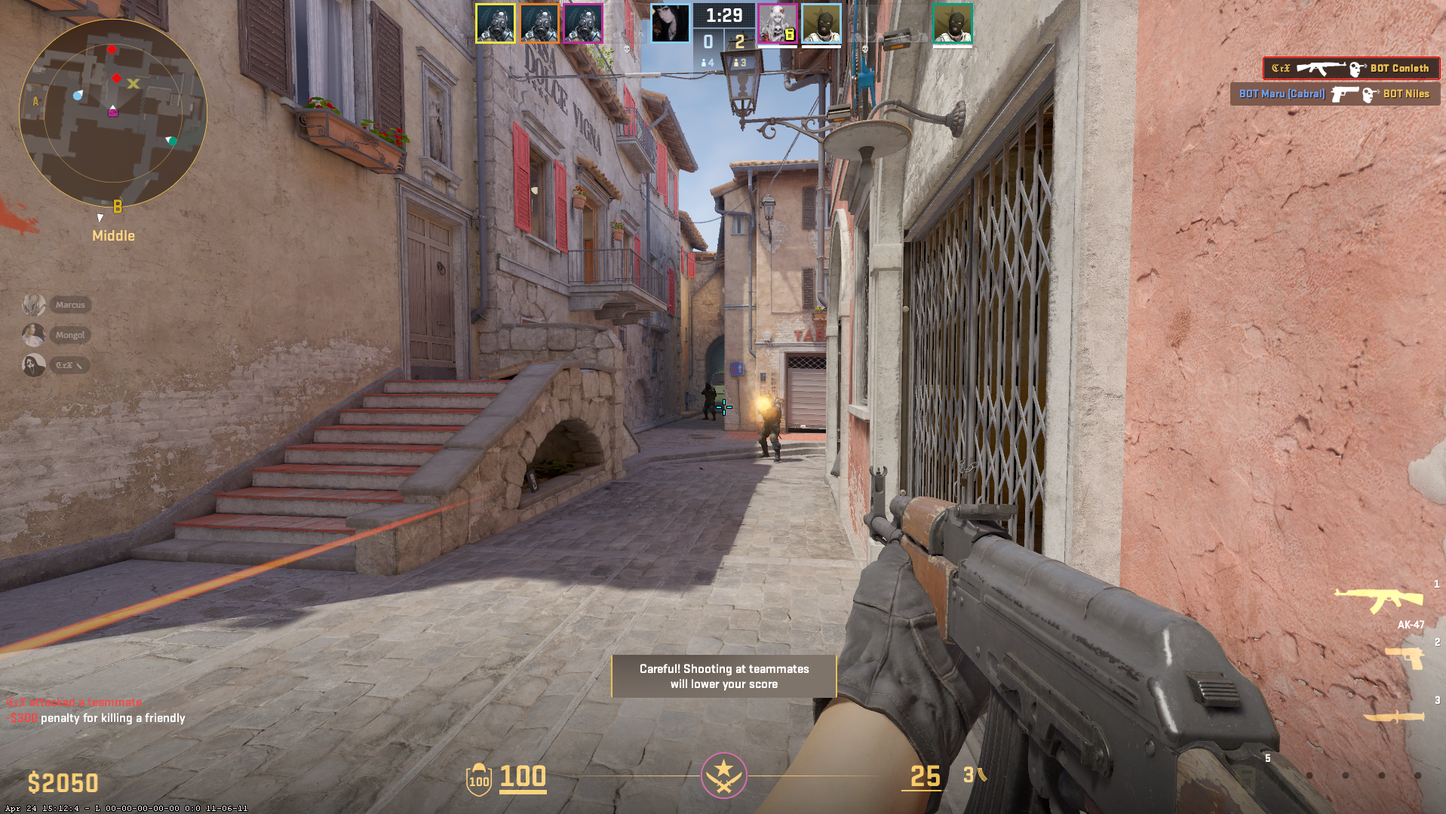CT: (756, 390, 782, 462), (701, 382, 716, 422)
